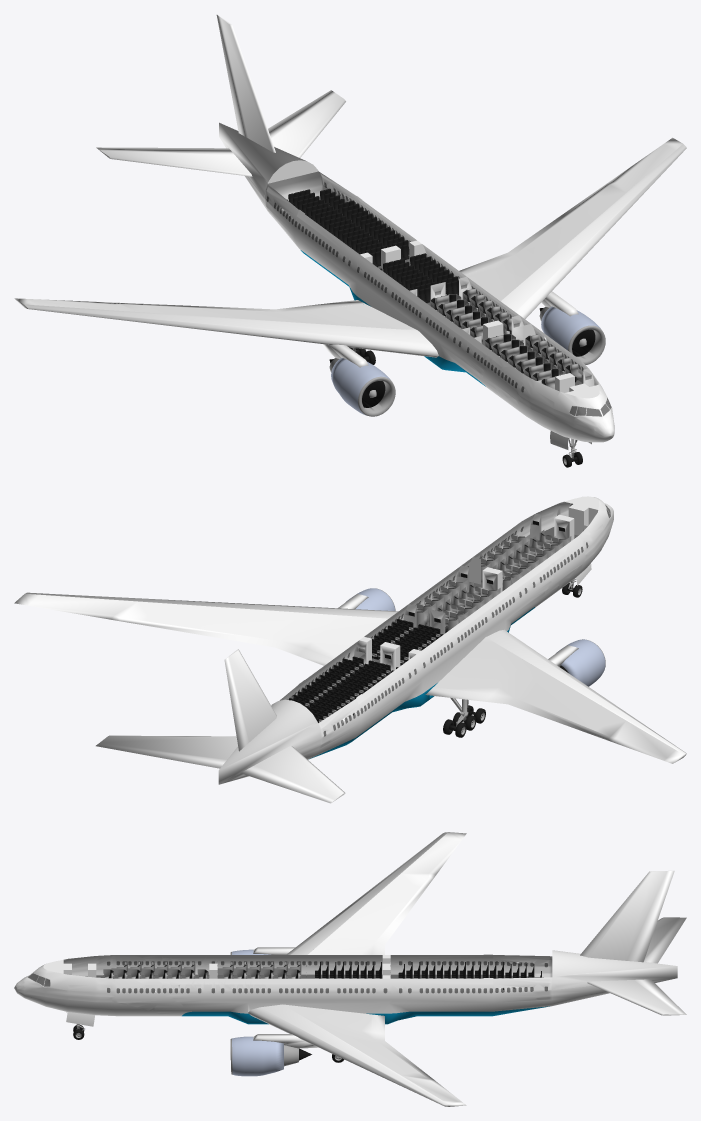
3 views of the same model, one above another, from view 1: azimuth 30°, elevation 25°; view 2: azimuth 150°, elevation 25°; view 3: azimuth 270°, elevation 25° (orthographic). The views are drawn at different scales.
Parts seen in each view (by area): view 1: Group#78, Group#79.001, Group#79, G-__555708, G-__555699, G-__555726.001, G-__555735, G-__555960, G-__555726, G-__555825, G-__555681; view 2: Group#78, Group#79, Group#79.001, G-__555699, G-__555708, G-__555726, G-__555726.001, G-__555735, G-__555681, G-__555960, G-__555825, Sketchup; view 3: Group#78, Group#79.001, Group#79, G-__555726.001, G-__555699, G-__555708, G-__555825, G-__555726, G-__555735, G-__555672, Group#24, G-__555681.
Part boxes in pixels (<box>): Group#78: <box>219,122,614,442</box>; Group#79.001: <box>14,298,438,357</box>; Group#79: <box>459,137,686,319</box>; G-__555708: <box>287,188,458,303</box>; G-__555699: <box>430,288,583,392</box>; G-__555726.001: <box>216,15,275,152</box>; G-__555735: <box>96,147,252,176</box>; G-__555960: <box>331,358,395,416</box>; G-__555726: <box>268,90,345,157</box>; G-__555825: <box>541,306,605,364</box>; G-__555681: <box>360,240,599,398</box>; Group#78: <box>218,497,613,784</box>; Group#79: <box>14,592,398,665</box>; Group#79.001: <box>425,629,686,763</box>; G-__555699: <box>416,514,574,631</box>; G-__555708: <box>289,619,447,722</box>; G-__555726: <box>96,735,237,768</box>; G-__555726.001: <box>224,649,276,751</box>; G-__555735: <box>240,746,345,803</box>; G-__555681: <box>354,496,599,664</box>; G-__555960: <box>556,639,605,686</box>; G-__555825: <box>346,588,395,611</box>; Sketchup: <box>380,642,400,671</box>; Group#78: <box>14,950,677,1024</box>; Group#79.001: <box>286,832,466,954</box>; Group#79: <box>248,1004,466,1106</box>; G-__555726.001: <box>580,870,674,962</box>; G-__555699: <box>88,961,301,978</box>; G-__555708: <box>315,962,541,989</box>; G-__555825: <box>230,1036,283,1076</box>; G-__555726: <box>587,979,686,1015</box>; G-__555735: <box>644,917,686,963</box>; G-__555672: <box>85,974,543,978</box>; Group#24: <box>253,1034,318,1048</box>; G-__555681: <box>43,955,390,978</box>.
Size of the model in its own units: 3.64 by 1.03 by 3.81.
